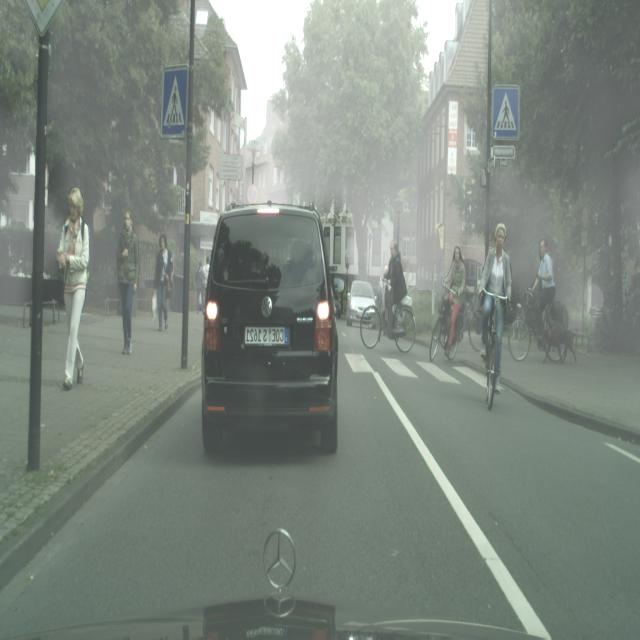bus: (201, 201, 340, 456), (0, 224, 64, 308), (347, 279, 376, 326), (331, 271, 345, 318)
car: (509, 238, 576, 362), (361, 239, 416, 353), (480, 223, 510, 409), (429, 247, 466, 362)
person: (57, 186, 90, 391), (117, 208, 140, 356), (154, 234, 171, 332), (195, 260, 206, 314)
